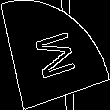M_W: (30, 26, 80, 84)
